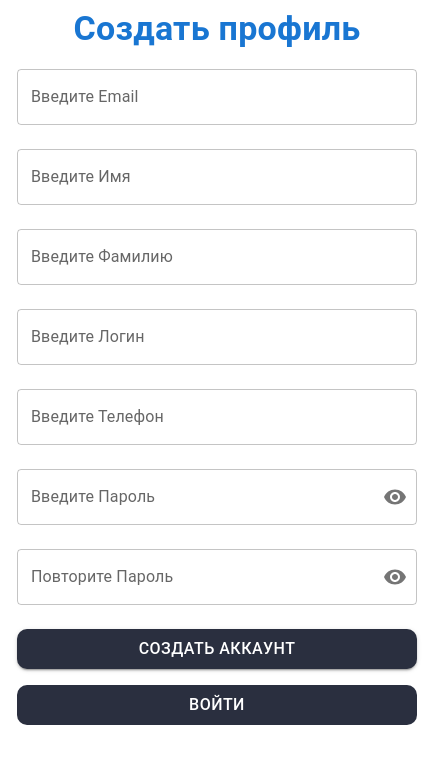
SignUp tests › serverError is work
Type "Admin@yandex.ru" into the field labelled "Введите Email" at (217, 97), box [17,69,417,125]
Type "Иван" into the field labelled "Введите Имя" at (217, 177), box [17,149,417,205]
Type "Иванов" into the field labelled "Введите Фамилию" at (217, 257), box [17,229,417,285]
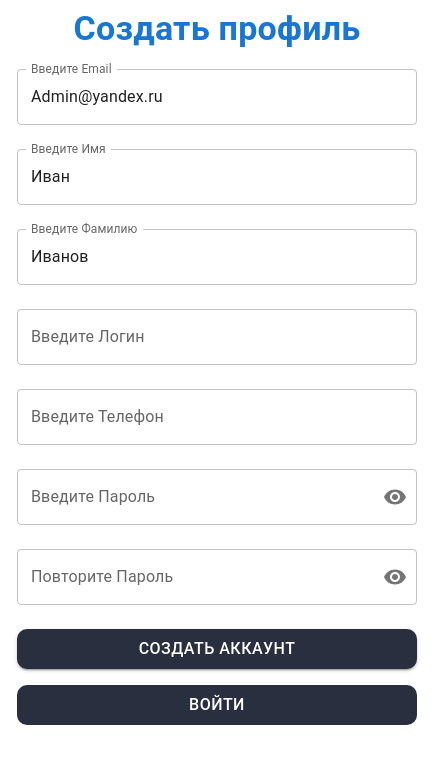
Type "Admin" into the field labelled "Введите Логин" at (217, 337), box [17,309,417,365]
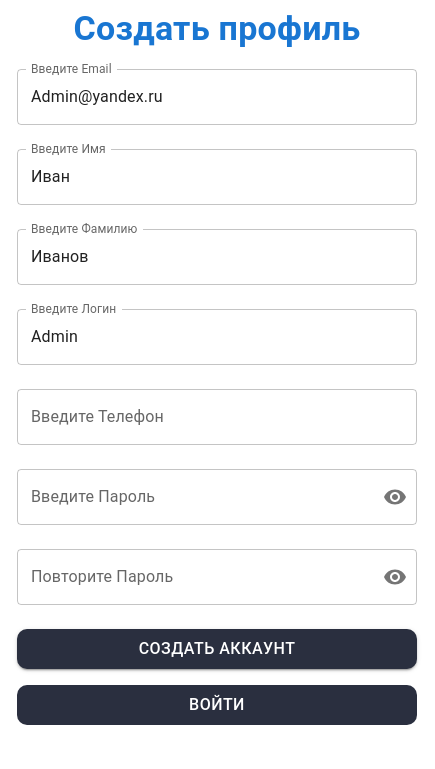
Type "89175464815" into the field labelled "Введите Телефон" at (217, 417), box [17,389,417,445]
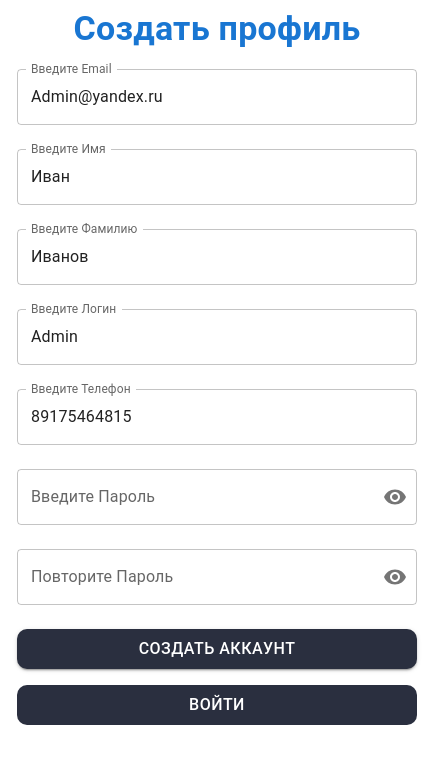
Type "1234567AS" into the password field labelled "Введите Пароль" at (196, 497), box [17,469,375,525]
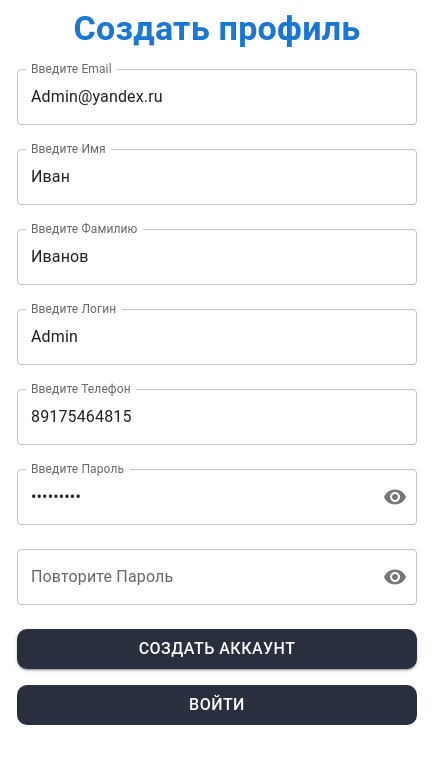
Type "1234567AS" into the password field labelled "Повторите Пароль" at (196, 577), box [17,549,375,605]
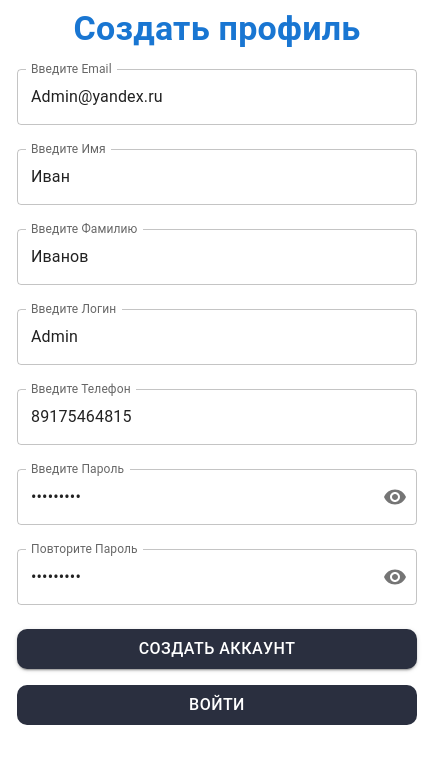
Click the button "Создать аккаунт" at (217, 649), box [17,629,417,669]
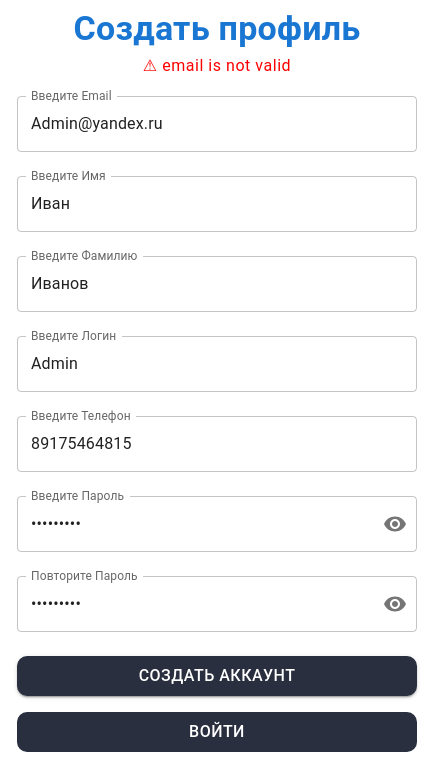
Now the text "⚠ email is not valid" is shown, box [143,53,291,80]
